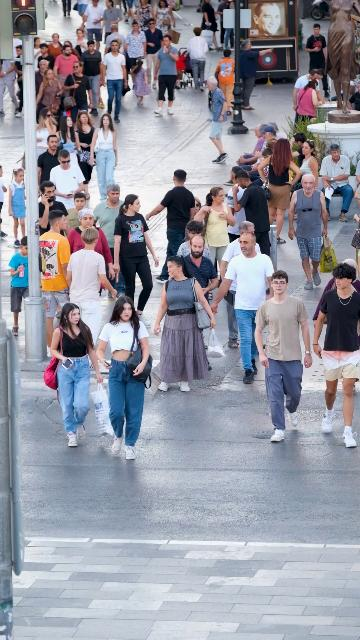person: (254, 270, 313, 443), (211, 232, 274, 384), (95, 295, 150, 461), (312, 262, 360, 448), (153, 256, 216, 393), (50, 302, 102, 447), (144, 168, 200, 285), (112, 194, 160, 325), (218, 220, 265, 349), (67, 228, 119, 330), (39, 210, 74, 359), (258, 138, 302, 245), (288, 174, 328, 290), (67, 208, 117, 299), (194, 186, 236, 272), (232, 170, 271, 257), (176, 234, 219, 311), (91, 183, 127, 259), (319, 144, 354, 222), (89, 113, 118, 206), (49, 149, 86, 220), (239, 39, 274, 110), (100, 40, 128, 123), (153, 34, 180, 117), (8, 236, 30, 336), (205, 76, 229, 164), (73, 110, 96, 200), (233, 124, 266, 185), (227, 166, 252, 243), (62, 61, 93, 123), (79, 39, 102, 117), (292, 68, 324, 124), (305, 23, 329, 97), (1, 45, 25, 118), (38, 181, 69, 237), (141, 18, 164, 90), (124, 20, 147, 88), (53, 42, 79, 101), (8, 168, 27, 248), (186, 27, 209, 93), (294, 77, 325, 125), (36, 69, 66, 117), (215, 48, 236, 116), (293, 139, 319, 193), (37, 135, 62, 191), (80, 0, 104, 53), (63, 191, 90, 238), (250, 124, 278, 169), (36, 107, 58, 161), (176, 220, 205, 260), (201, 0, 223, 51), (129, 58, 152, 106), (57, 116, 81, 158), (283, 132, 309, 168), (154, 0, 176, 40), (35, 59, 51, 107), (104, 24, 126, 58), (102, 0, 123, 35), (70, 28, 89, 61), (44, 33, 64, 62), (36, 43, 56, 69), (258, 147, 273, 170), (268, 122, 287, 139), (76, 0, 92, 19), (34, 37, 46, 61), (195, 198, 211, 215), (354, 182, 360, 226), (120, 0, 132, 20), (166, 0, 179, 14)
